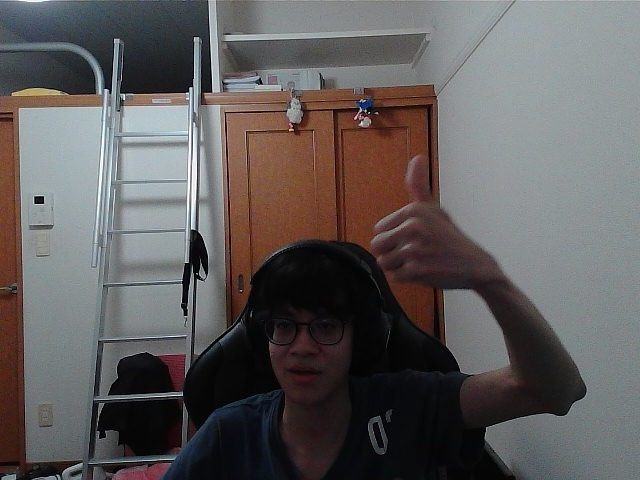thumb_up: (380, 162, 468, 275)
